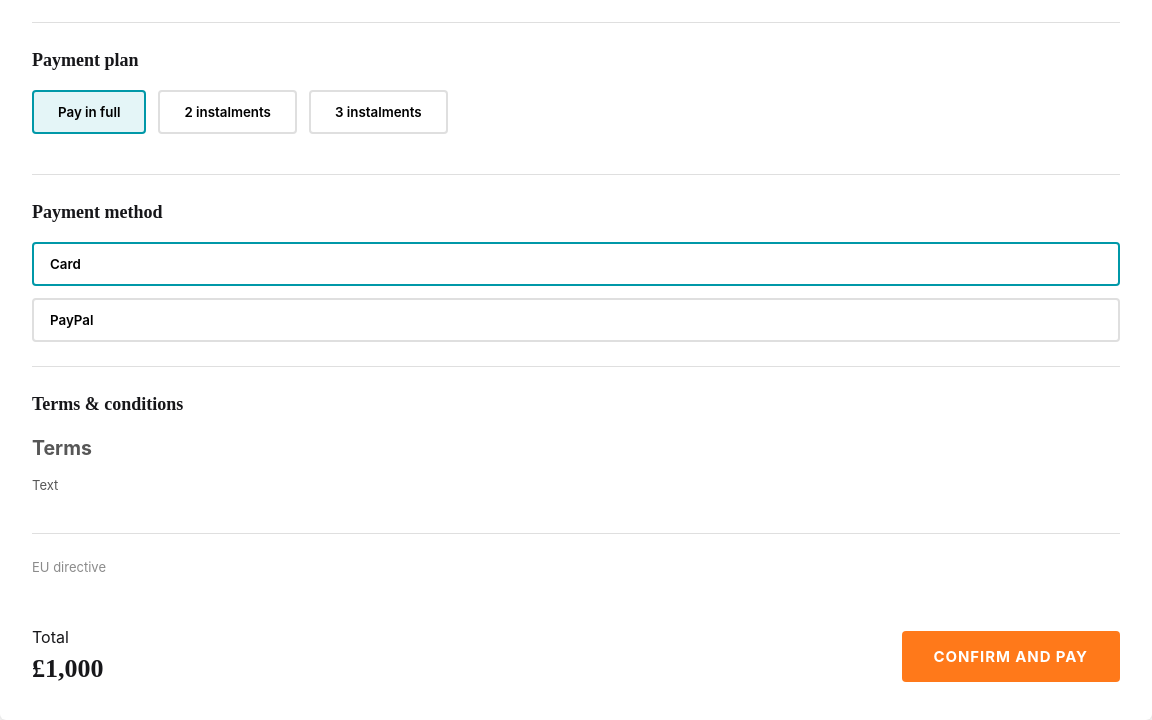
Test: CheckoutStep › keeps the processing label on a successful submit
(page scrolled)
Click the button "Confirm and pay" at (1011,657), box [902,631,1120,682]
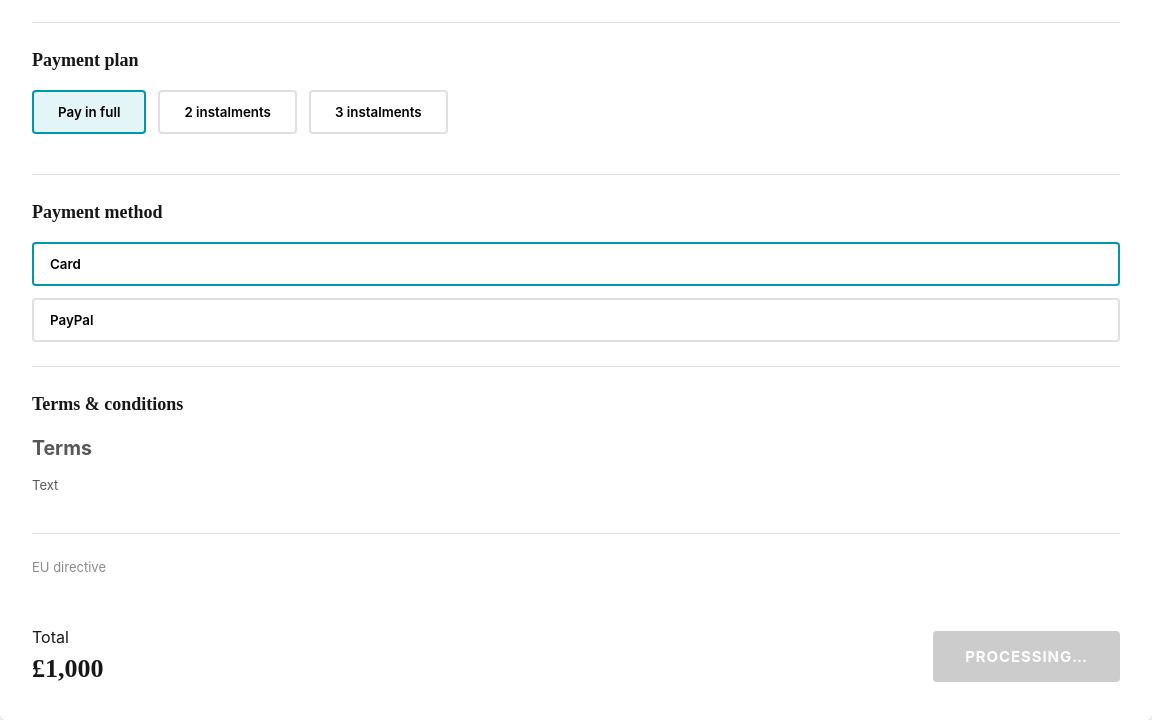
Result: the button "Processing…" is shown at [933,631,1120,682]
